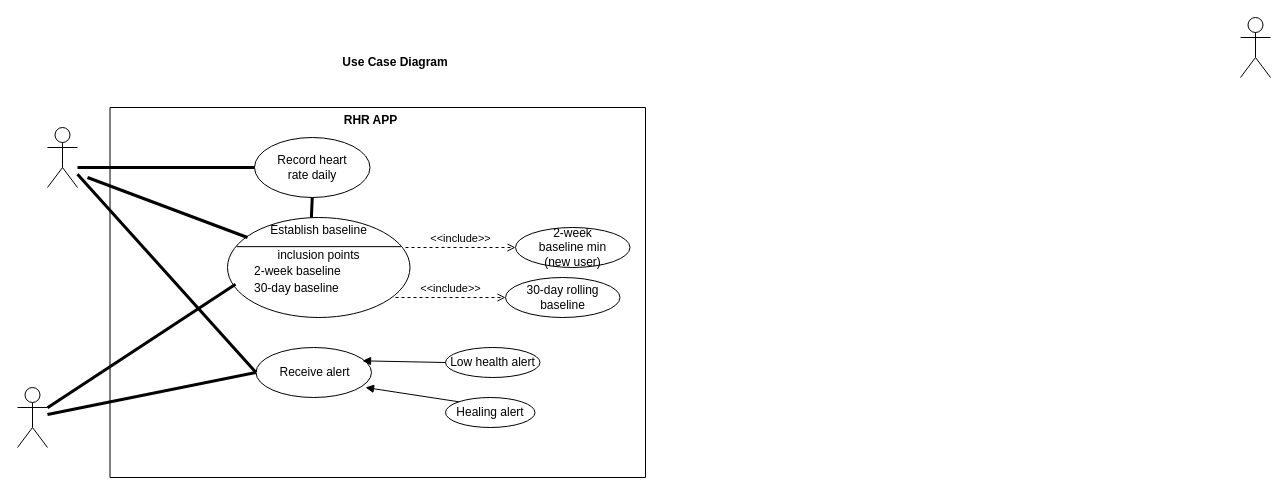
The diagram is 1288 pixels wide and 495 high, and some of its shapes have lost their labels. The shapes that lost their labels are listed below. From the top down, each one's centre as x and y in pixels, then its label:
At point 1255,47: "Actor".
At point 62,157: "Watch".
At point 32,417: "User".
